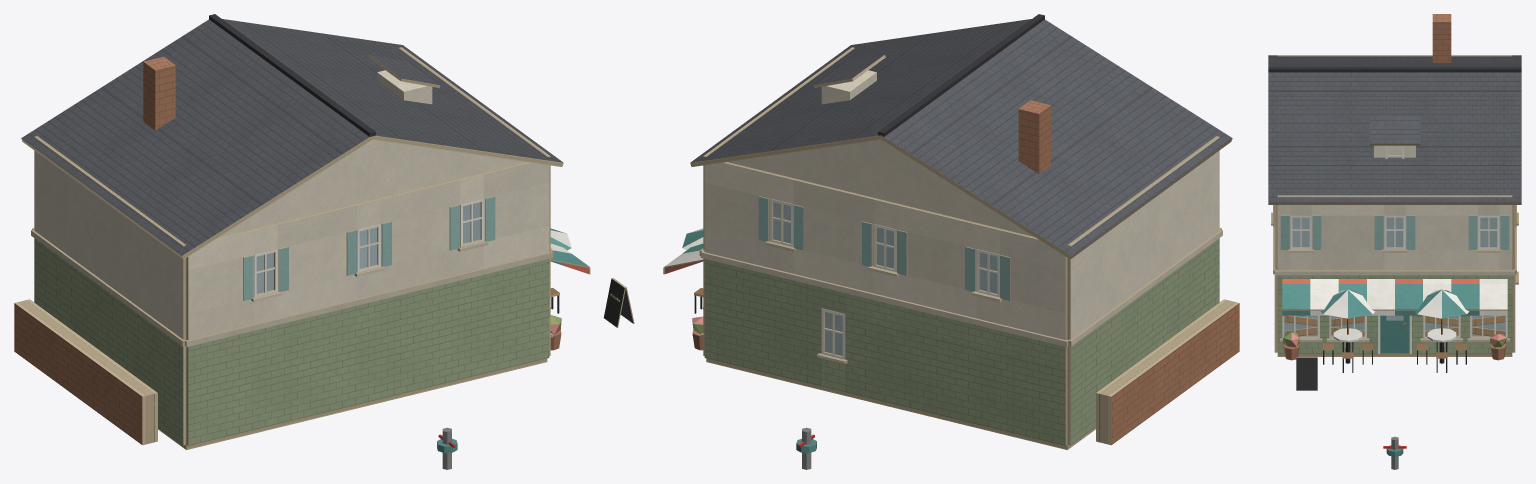
Rendered from cafe.glb.
3 views of the same model, side by side, from view 1: azimuth 30°, elevation 25°; view 2: azimuth 150°, elevation 25°; view 3: azimuth 270°, elevation 25° (orthographic). The views are drawn at different scales.
Visible parts, largest first — view 1: cafe__building__shell, cafe__building__passage, cafe__terrace2026__set; view 2: cafe__building__shell, cafe__building__passage, cafe__terrace2026__set; view 3: cafe__building__shell, cafe__open1986__front, cafe__terrace2026__set, cafe__terrace1986__set, cafe__flood_closed__front, cafe__valve__fitting.
Boxes of the visible parts, x1,y1,x2,y2 form: cafe__building__shell: (21,14,563,449); cafe__building__passage: (14,299,157,445); cafe__terrace2026__set: (550,258,634,350); cafe__building__shell: (690,14,1232,449); cafe__building__passage: (1096,299,1239,445); cafe__terrace2026__set: (663,258,703,350); cafe__building__shell: (1268,14,1521,356); cafe__open1986__front: (1282,284,1507,315); cafe__terrace2026__set: (1282,279,1507,390); cafe__terrace1986__set: (1320,289,1469,364); cafe__flood_closed__front: (1284,315,1505,336); cafe__valve__fitting: (1383,436,1406,469).
Bounding box in the file's own units: 9.57 × 8.25 × 5.4.
Materials: 9 (9 with a texture image).
